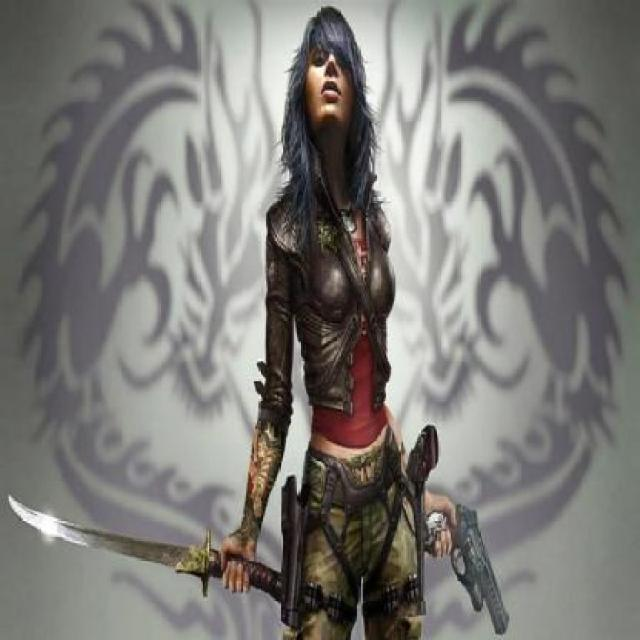weapon: (7, 490, 284, 605), (410, 500, 512, 638), (406, 426, 448, 491)
